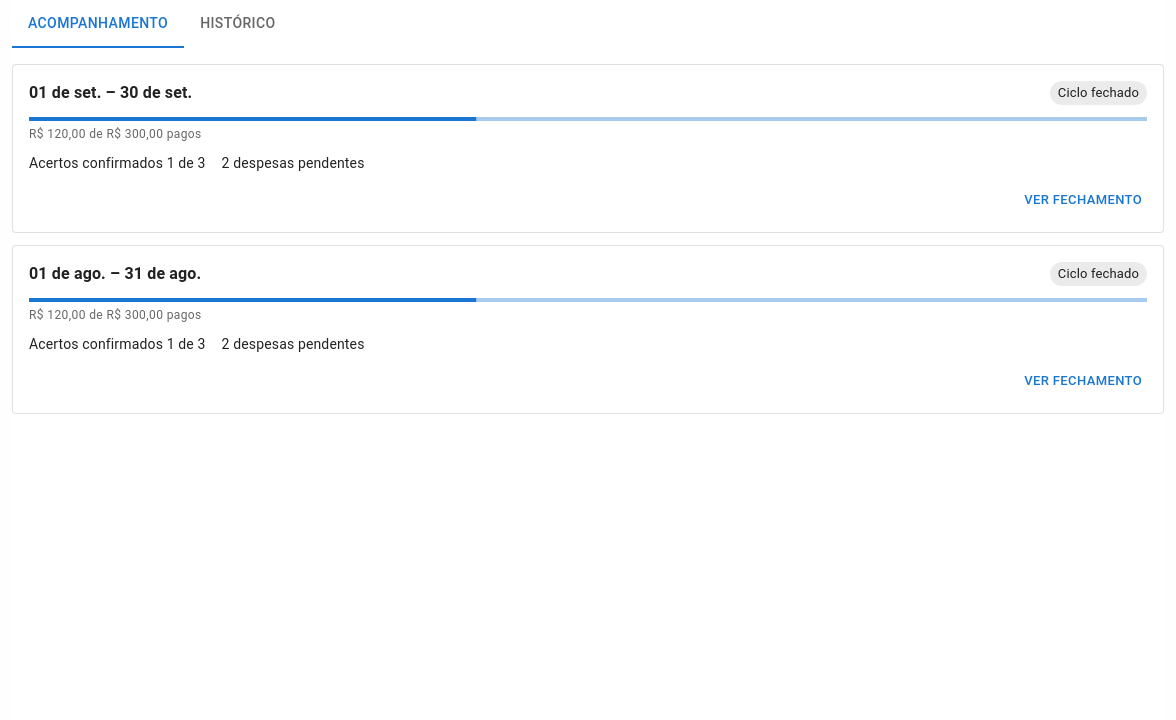
Test: GroupReports › Acompanhamento › opens the closing report of the card whose button was clicked
Click the button with aria-label "Ver fechamento do ciclo 01 de ago. – 31 de ago.": (1083, 381) [1019,366,1147,397]
(page scrolled)
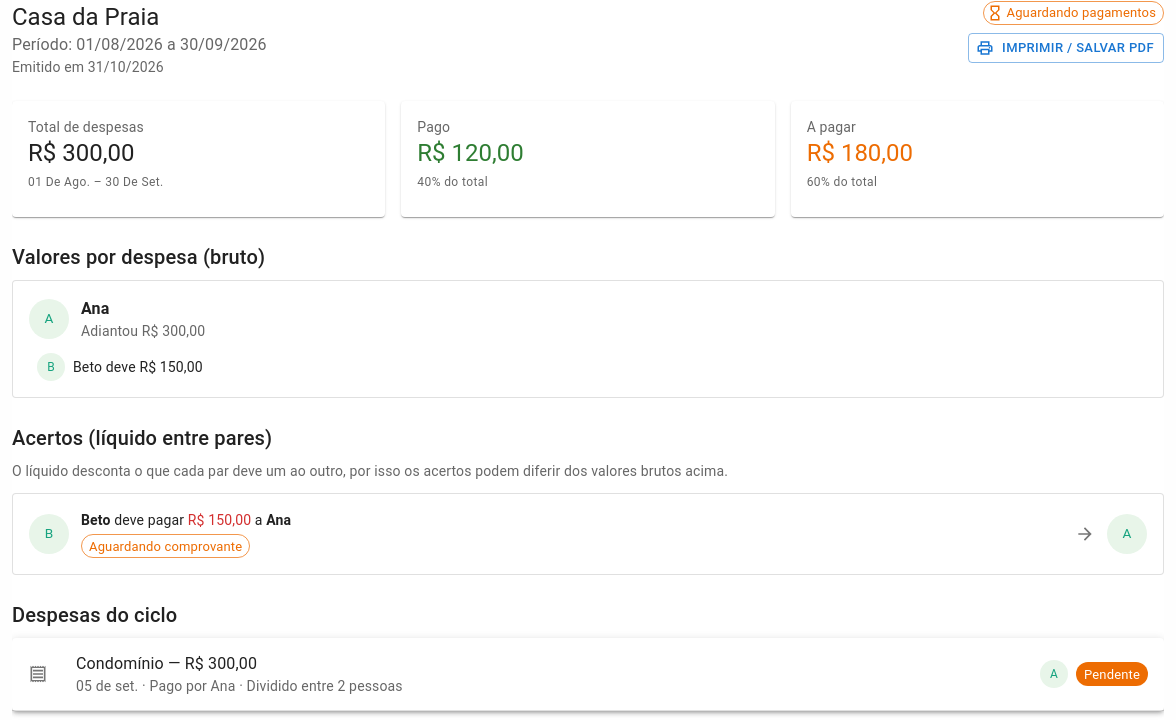
expect the heading "Casa da Praia" is shown: met, box [12,2,159,30]
